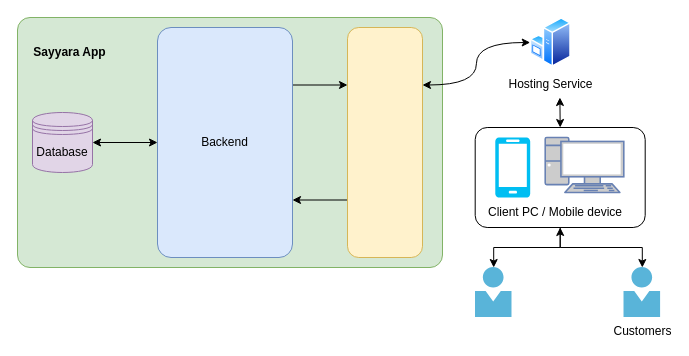
Some shapes in this 689 by 356 pixel diagram are drawn without their labels. Each missing label, with the centre of its shape:
"Frontend" belongs at [384,142].
"Shop Owners/ Employees" belongs at [493,292].
